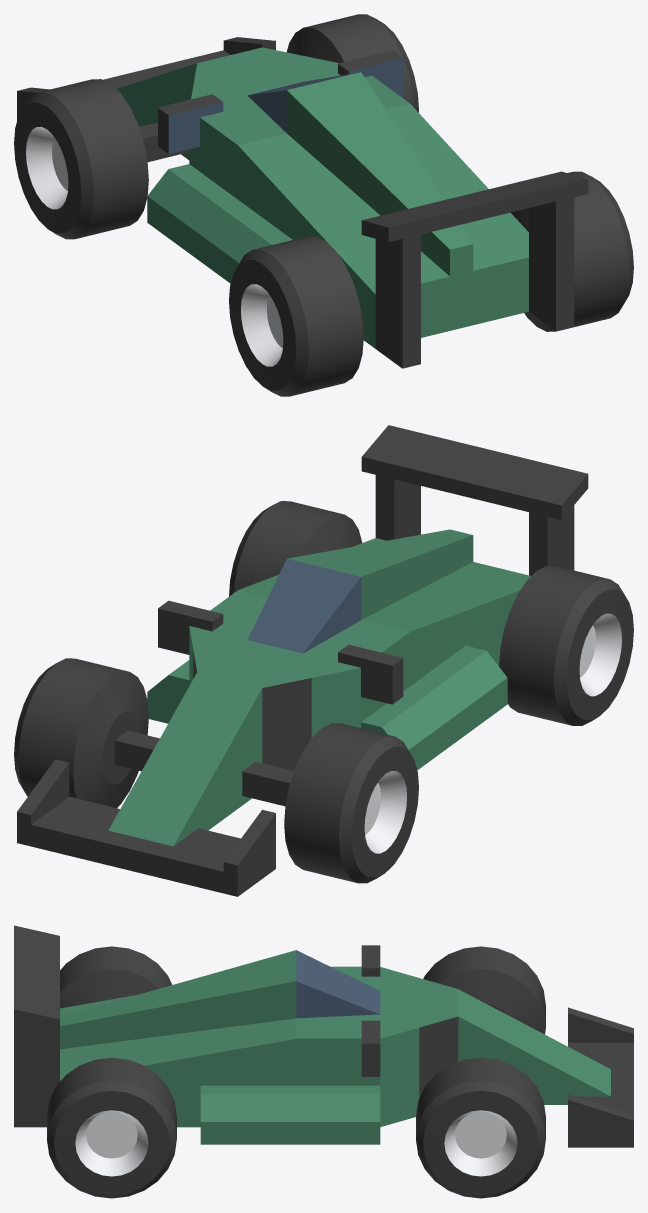
Rendered from car.glb.
3 views of the same model, one above another, from view 1: azimuth 30°, elevation 25°; view 2: azimuth 150°, elevation 25°; view 3: azimuth 270°, elevation 25° (orthographic). The views are drawn at different scales.
Parts seen in each view (by area): view 1: node_id11, node_id8, node_id19, node_id35, node_id27, node_id43, node_id14, node_id22, node_id38; view 2: node_id11, node_id8, node_id35, node_id19, node_id43, node_id14, node_id27, node_id22, node_id38; view 3: node_id11, node_id8, node_id43, node_id27, node_id35, node_id19, node_id14, node_id46, node_id30.
Part boxes in pixels (box(x1,y1,x2,y2)): node_id11: box(116, 47, 528, 348); node_id8: box(17, 37, 588, 368); node_id19: box(229, 236, 363, 396); node_id35: box(14, 79, 148, 239); node_id27: box(511, 171, 633, 331); node_id43: box(287, 14, 418, 112); node_id14: box(168, 58, 403, 153); node_id22: box(241, 284, 283, 366); node_id38: box(26, 127, 68, 209); node_id11: box(108, 529, 530, 846); node_id8: box(17, 425, 588, 896); node_id35: box(284, 723, 418, 883); node_id19: box(499, 566, 633, 725); node_id43: box(14, 658, 148, 808); node_id14: box(247, 559, 361, 653); node_id27: box(229, 501, 362, 596); node_id22: box(579, 613, 621, 696); node_id38: box(364, 771, 406, 853); node_id11: box(60, 950, 610, 1144); node_id8: box(14, 925, 633, 1147); node_id43: box(416, 1057, 545, 1198); node_id27: box(47, 1057, 176, 1198); node_id35: box(423, 946, 545, 1034); node_id19: box(60, 946, 171, 1008); node_id14: box(296, 950, 380, 1018); node_id46: box(444, 1110, 517, 1176); node_id30: box(75, 1110, 148, 1176).
Size of the model in its own units: 2.31 by 1.26 by 4.27.
11 materials, 11 textured.
